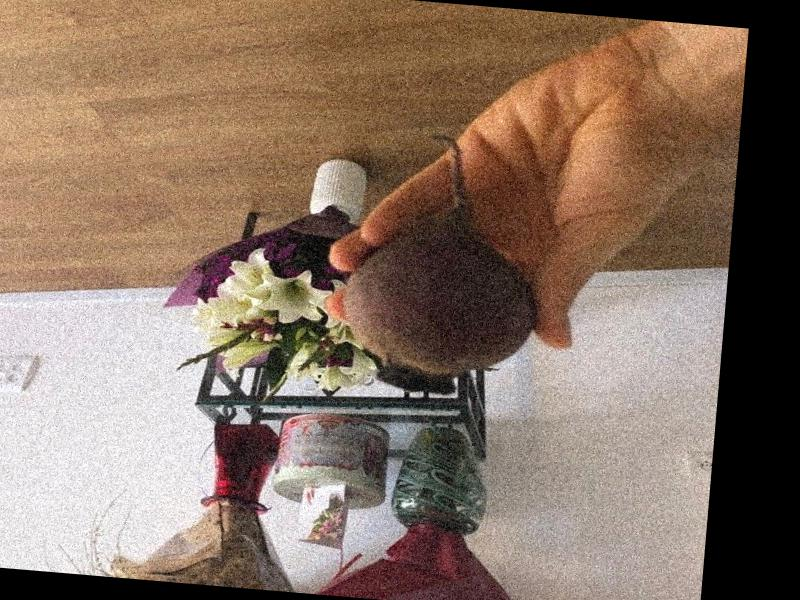Beet: (335, 128, 549, 401)
